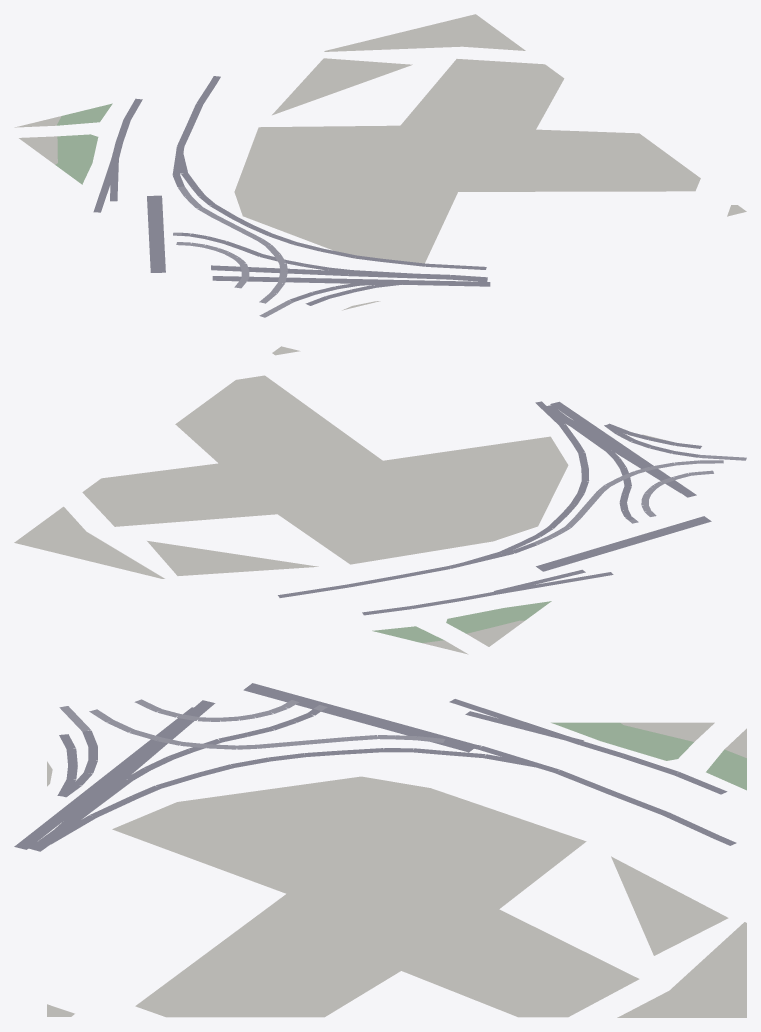
File: 107_94_mid.glb
The picture shows the model from 3 angles, top to bottom: view 1: azimuth 30°, elevation 25°; view 2: azimuth 150°, elevation 25°; view 3: azimuth 270°, elevation 25°; orthographic projection. The views are drawn at different scales.
Size of the model in its own units: 550 by 15.65 by 524.
